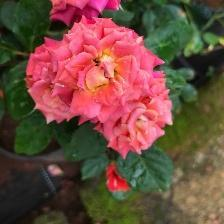rose: (50, 28, 143, 122)
